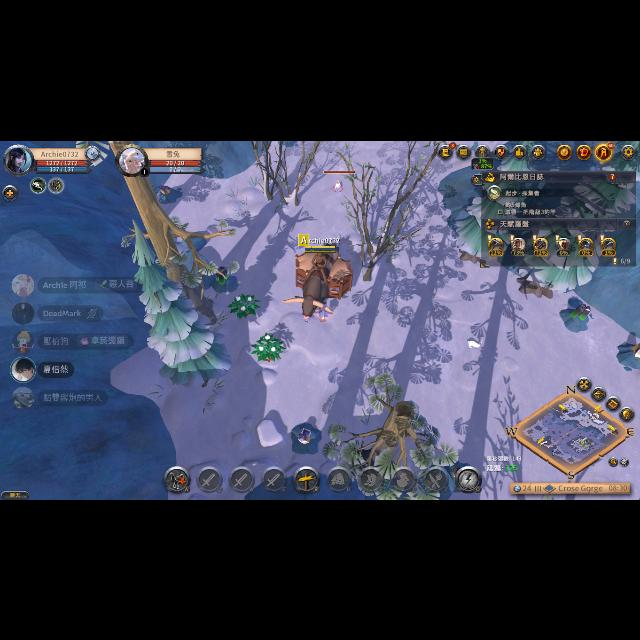mine_ii: (294, 424, 318, 450), (157, 182, 186, 200), (626, 336, 640, 368)
mine_iii: (562, 302, 594, 334), (213, 264, 240, 292)
